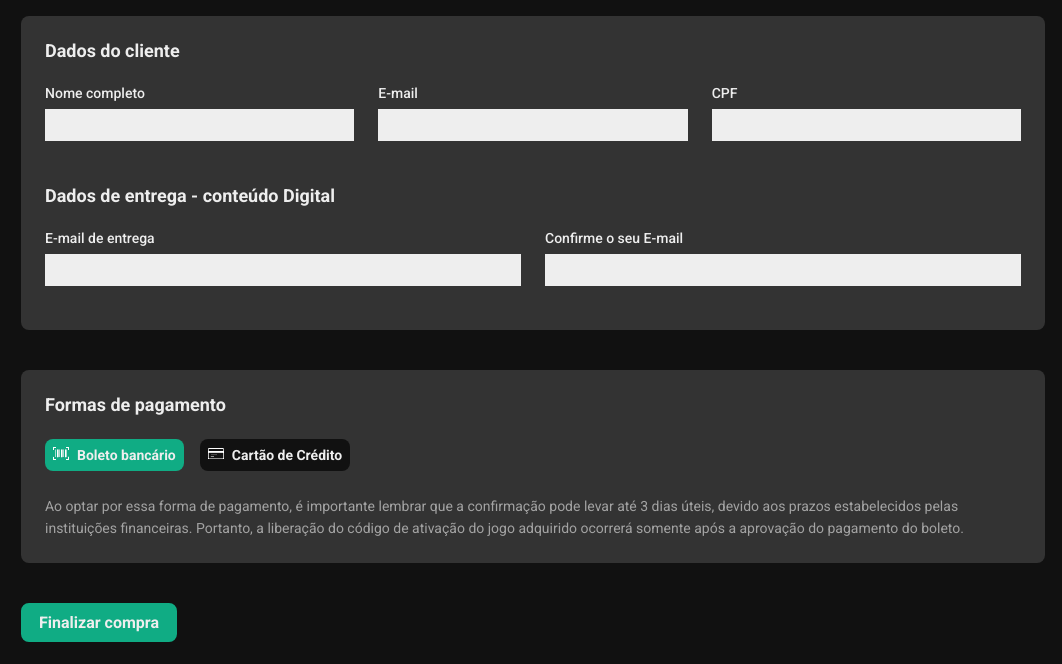
Test: Checkout — validações do formulário › mostra erros de validação ao tentar submeter vazio
The image size is (1062, 664).
Click the button "Finalizar compra" at (99,622), box [21,603,177,642]
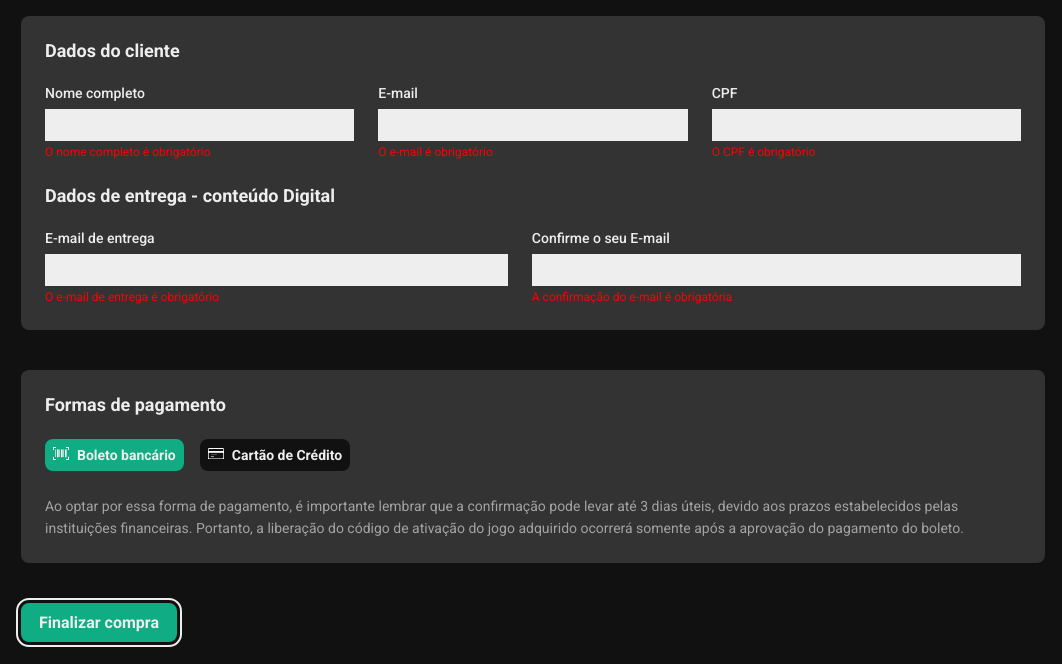
Now the text "O nome completo é obrigatório" is shown, box [45,145,210,159]
Now the text "O e-mail é obrigatório" is shown, box [378,145,493,159]
Now the text "O CPF é obrigatório" is shown, box [712,145,816,159]
